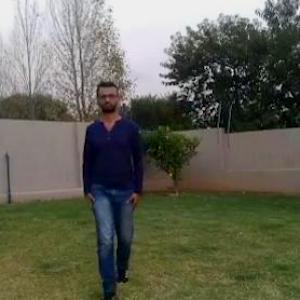follow: (88, 97, 136, 287)
